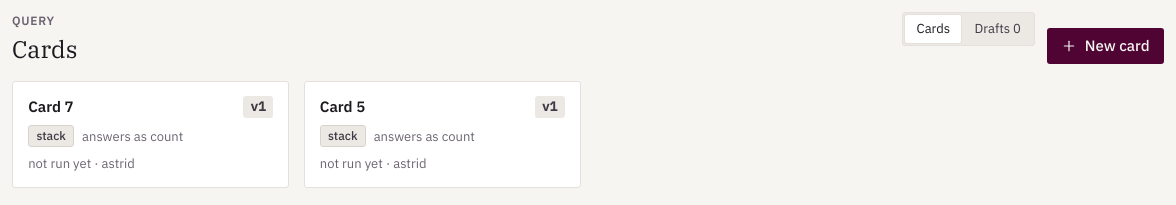
the Cards list › shows the Drafts tab with none in it, and says what would fill it
This screenshot has width=1176, height=205.
Click the tab "Drafts 0".
click(998, 29)  # box [963, 15, 1032, 42]
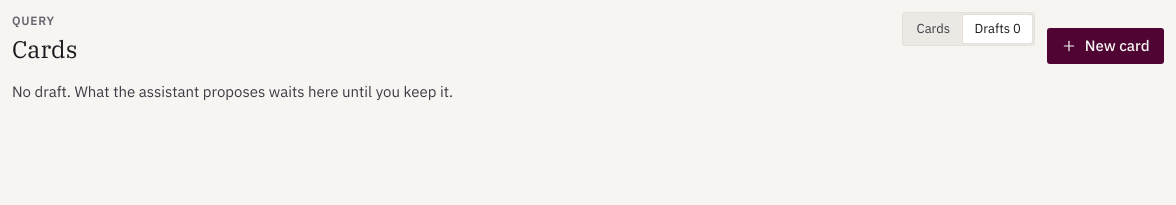
Now the text with class "lede" reads "No draft. What the assistant proposes waits here until you keep it.", box [12, 82, 453, 101]
